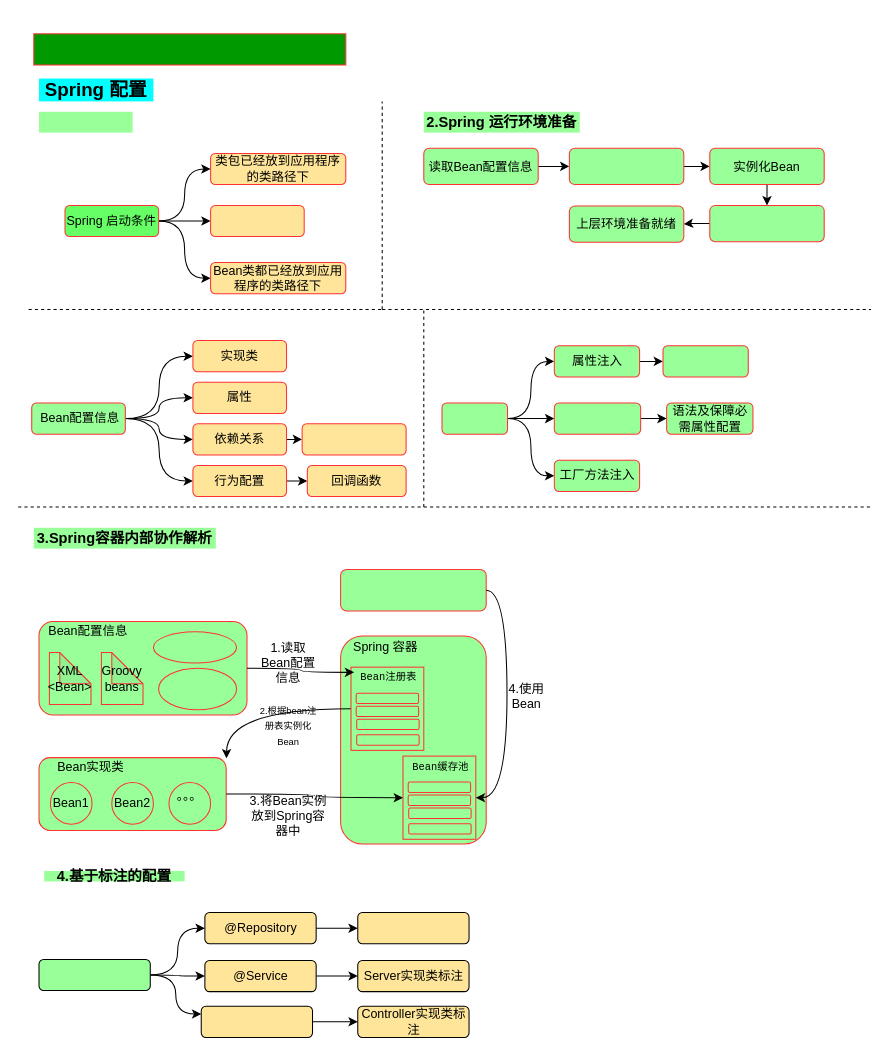
Some shapes in this 890 by 1056 pixel diagram are drawn without their labels. Each missing label, with the centre of its shape:
"1.启动条件" goes at (85,121).
"@Component" goes at (94,974).
"@Controller" goes at (256,1021).
"Bean之间的依赖" goes at (353,439).
"DAO标注" goes at (413,928).
"Java类 @Configuration" goes at (194,647).
"依赖注入" goes at (474,418).
"在IOC容器中装配Bean" goes at (189,49).
"应用程序" goes at (413,589).
"提供完备的Bean配置信息" goes at (257,220).
"构造函数注入" goes at (597,418).
"注解 @Autowrite" goes at (197,688).
"生成Bean注册表" goes at (626,166).
"装配Bean依赖" goes at (766,223).
"认为保障必需属性配置" goes at (705,361).
